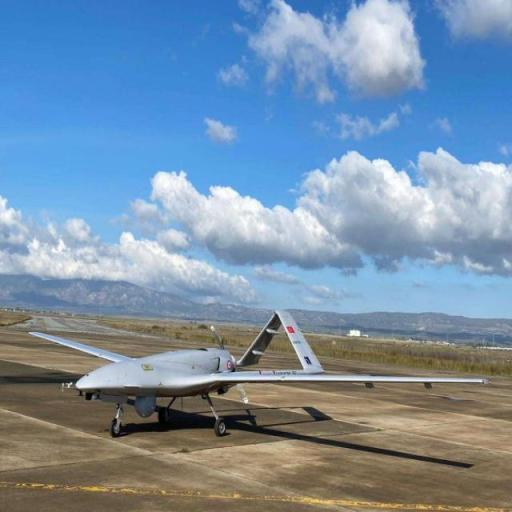uav: (22, 304, 502, 456)
